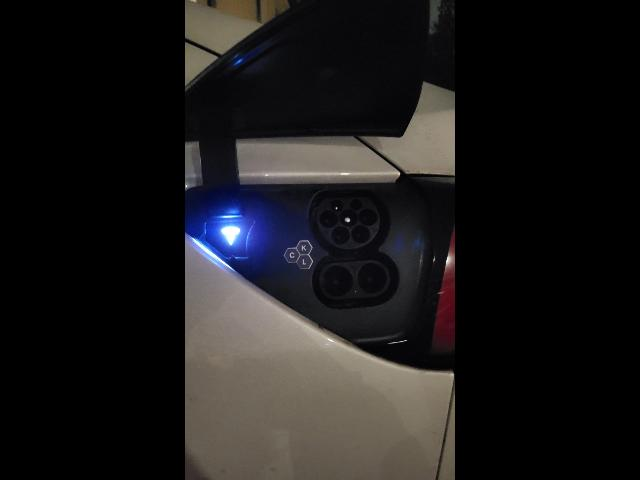inlet: (317, 197, 380, 249)
inlet-above-left: (331, 200, 343, 212)
inlet-above-right: (350, 198, 363, 210)
inlet-below-left: (331, 226, 350, 245)
inlet-below-right: (351, 225, 370, 243)
inlet-circle: (340, 209, 358, 227)
inlet-circle-left: (319, 210, 338, 228)
inlet-circle-right: (359, 208, 378, 226)
inlet-minus: (357, 263, 387, 294)
inlet-plus: (322, 265, 354, 296)
